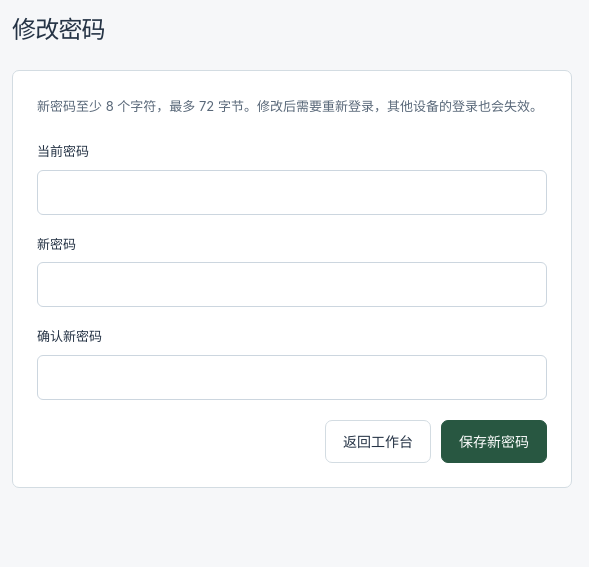
change own password › keeps the current login when the old password is incorrect
Type "password123" into the password field labelled "当前密码" at (292, 192), box x1=37 y1=170 x2=547 y2=215
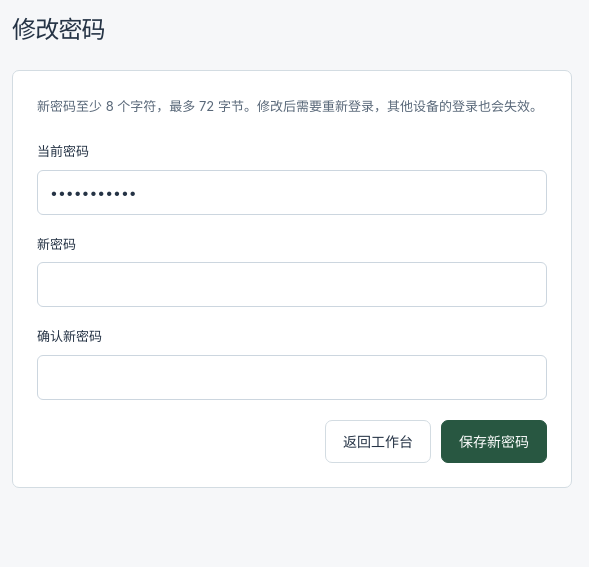
Type "changed123" into the password field labelled "新密码" at (292, 285), box x1=37 y1=262 x2=547 y2=307
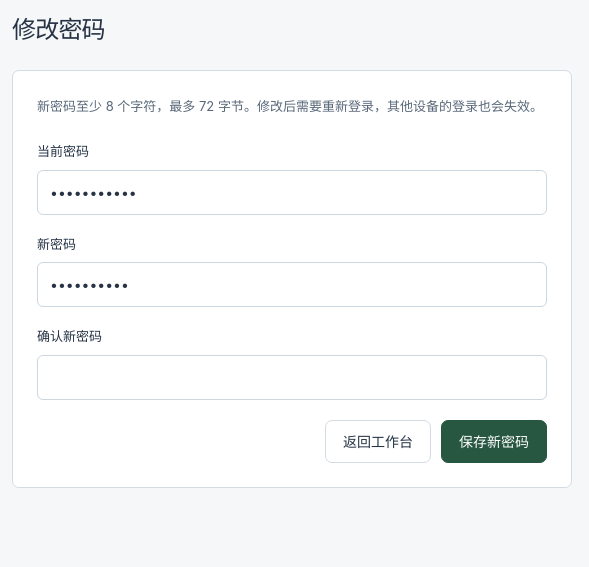
Type "changed123" into the password field labelled "确认新密码" at (292, 377), box x1=37 y1=355 x2=547 y2=400
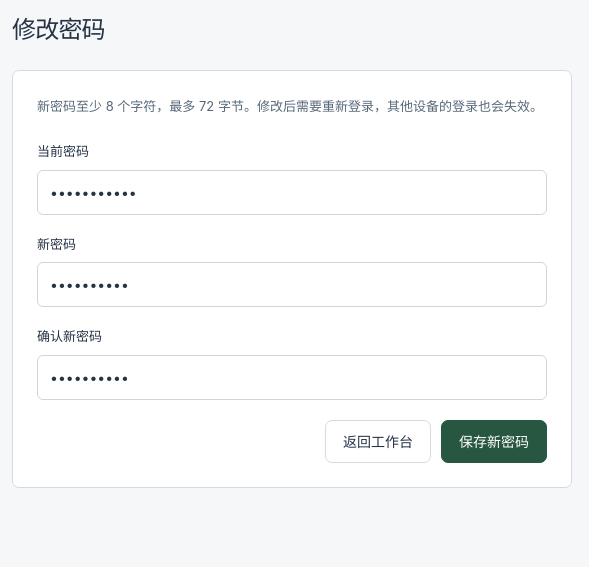
Click the button "保存新密码" at (494, 441), box x1=441 y1=420 x2=547 y2=463
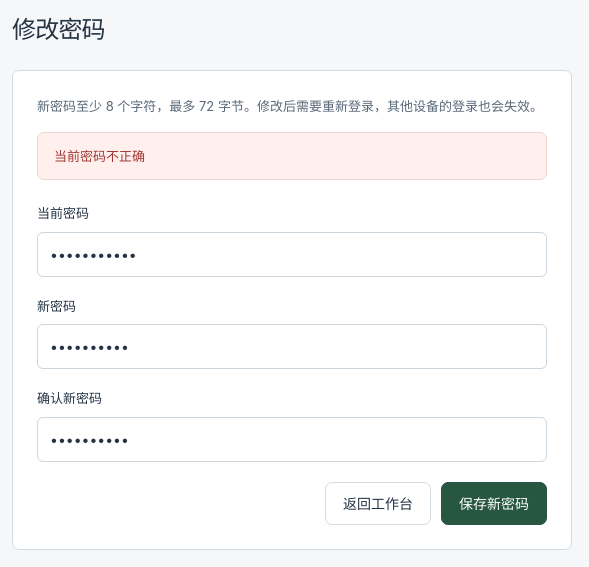
Check: the message reads "当前密码不正确", box x1=54 y1=148 x2=145 y2=164
